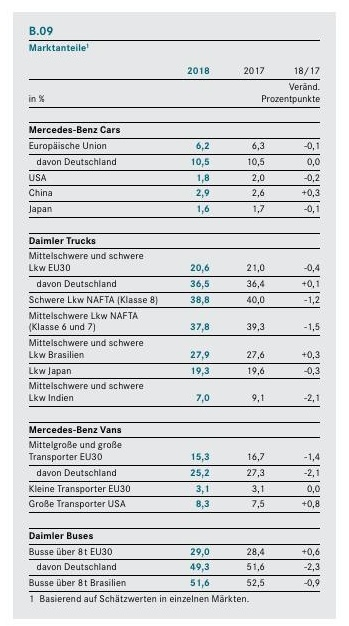table: (0, 0, 349, 626)
